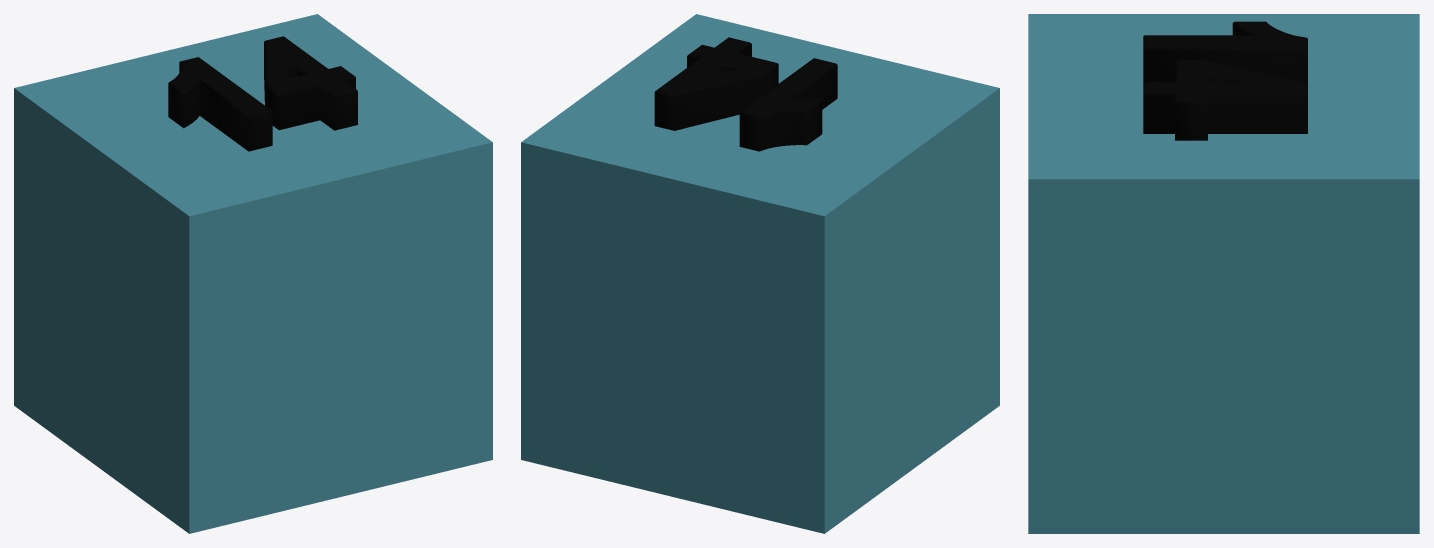
Rendered from level14.fbx.
The picture shows the model from 3 angles, left to right: view 1: azimuth 30°, elevation 25°; view 2: azimuth 150°, elevation 25°; view 3: azimuth 270°, elevation 25°; orthographic projection. The views are drawn at different scales.
Parts seen in each view (by area): view 1: Text; view 2: Text; view 3: Text.
Boxes of the visible parts, x1=… form: Text: x1=14, y1=14, x2=492, y2=533; Text: x1=521, y1=14, x2=999, y2=533; Text: x1=1028, y1=14, x2=1419, y2=533.
Size of the model in its own units: 200 by 223 by 200.
